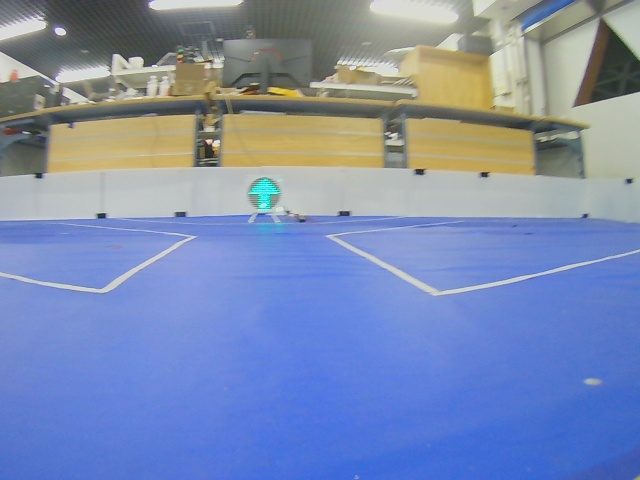straight_green: (247, 177, 281, 212)
